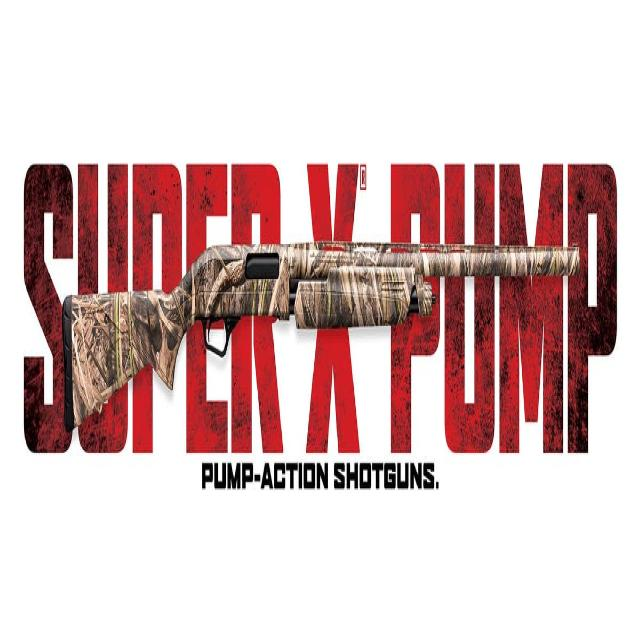ShotGun: (61, 243, 573, 433)
